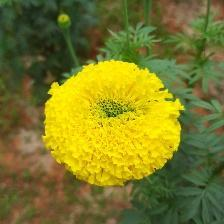marigold: (43, 60, 184, 189)
